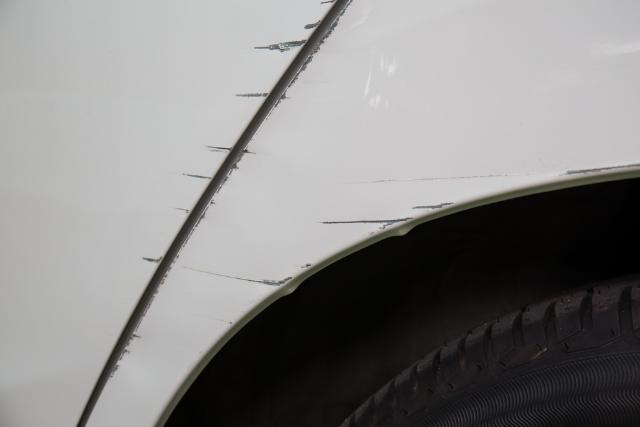Door: (133, 0, 309, 270)
Fender: (188, 160, 640, 292)
